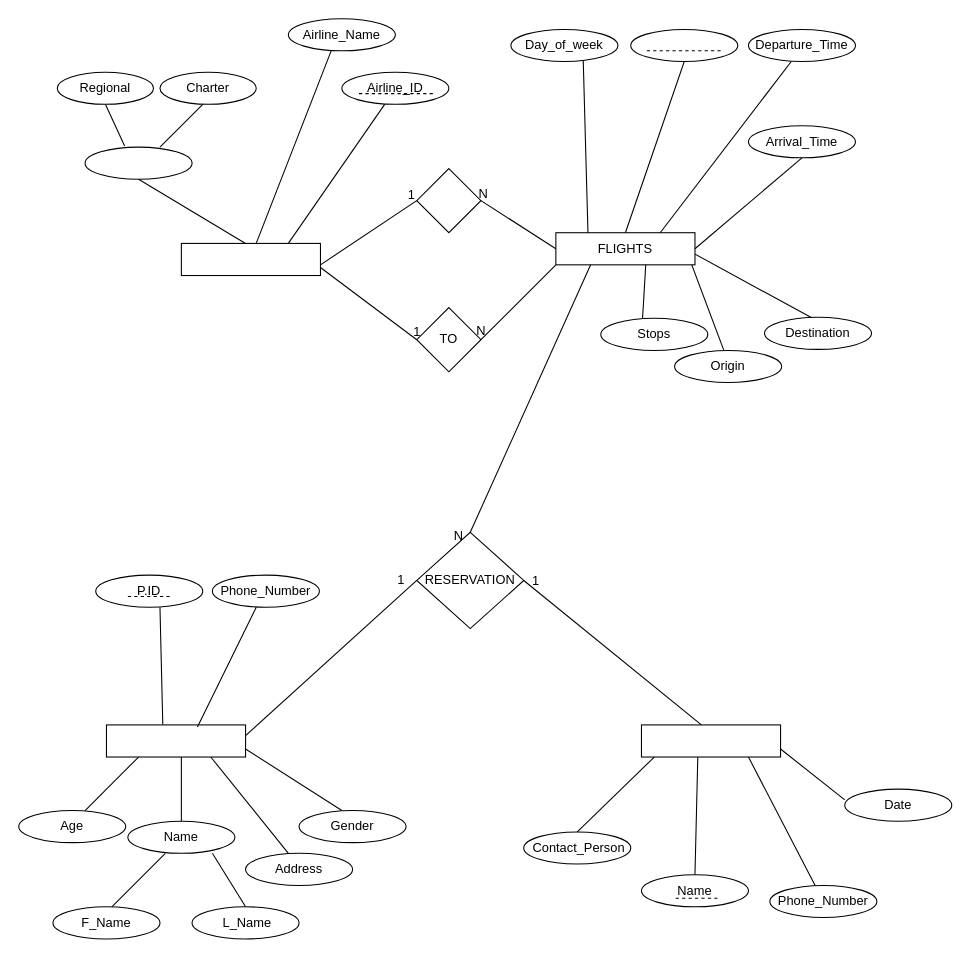
Some shapes in this 970 by 958 pixel diagram are drawn without their labels. Here are the shapes that lost their labels. From the top down, the centre of each, then its label:
At (x=684, y=45): "Flight_Number".
At (x=138, y=162): "Airline_Type".
At (x=448, y=200): "FROM".
At (x=250, y=259): "AIRLINES".
At (x=175, y=740): "PASSENGER".
At (x=710, y=740): "TRAVEL AGENCY".
